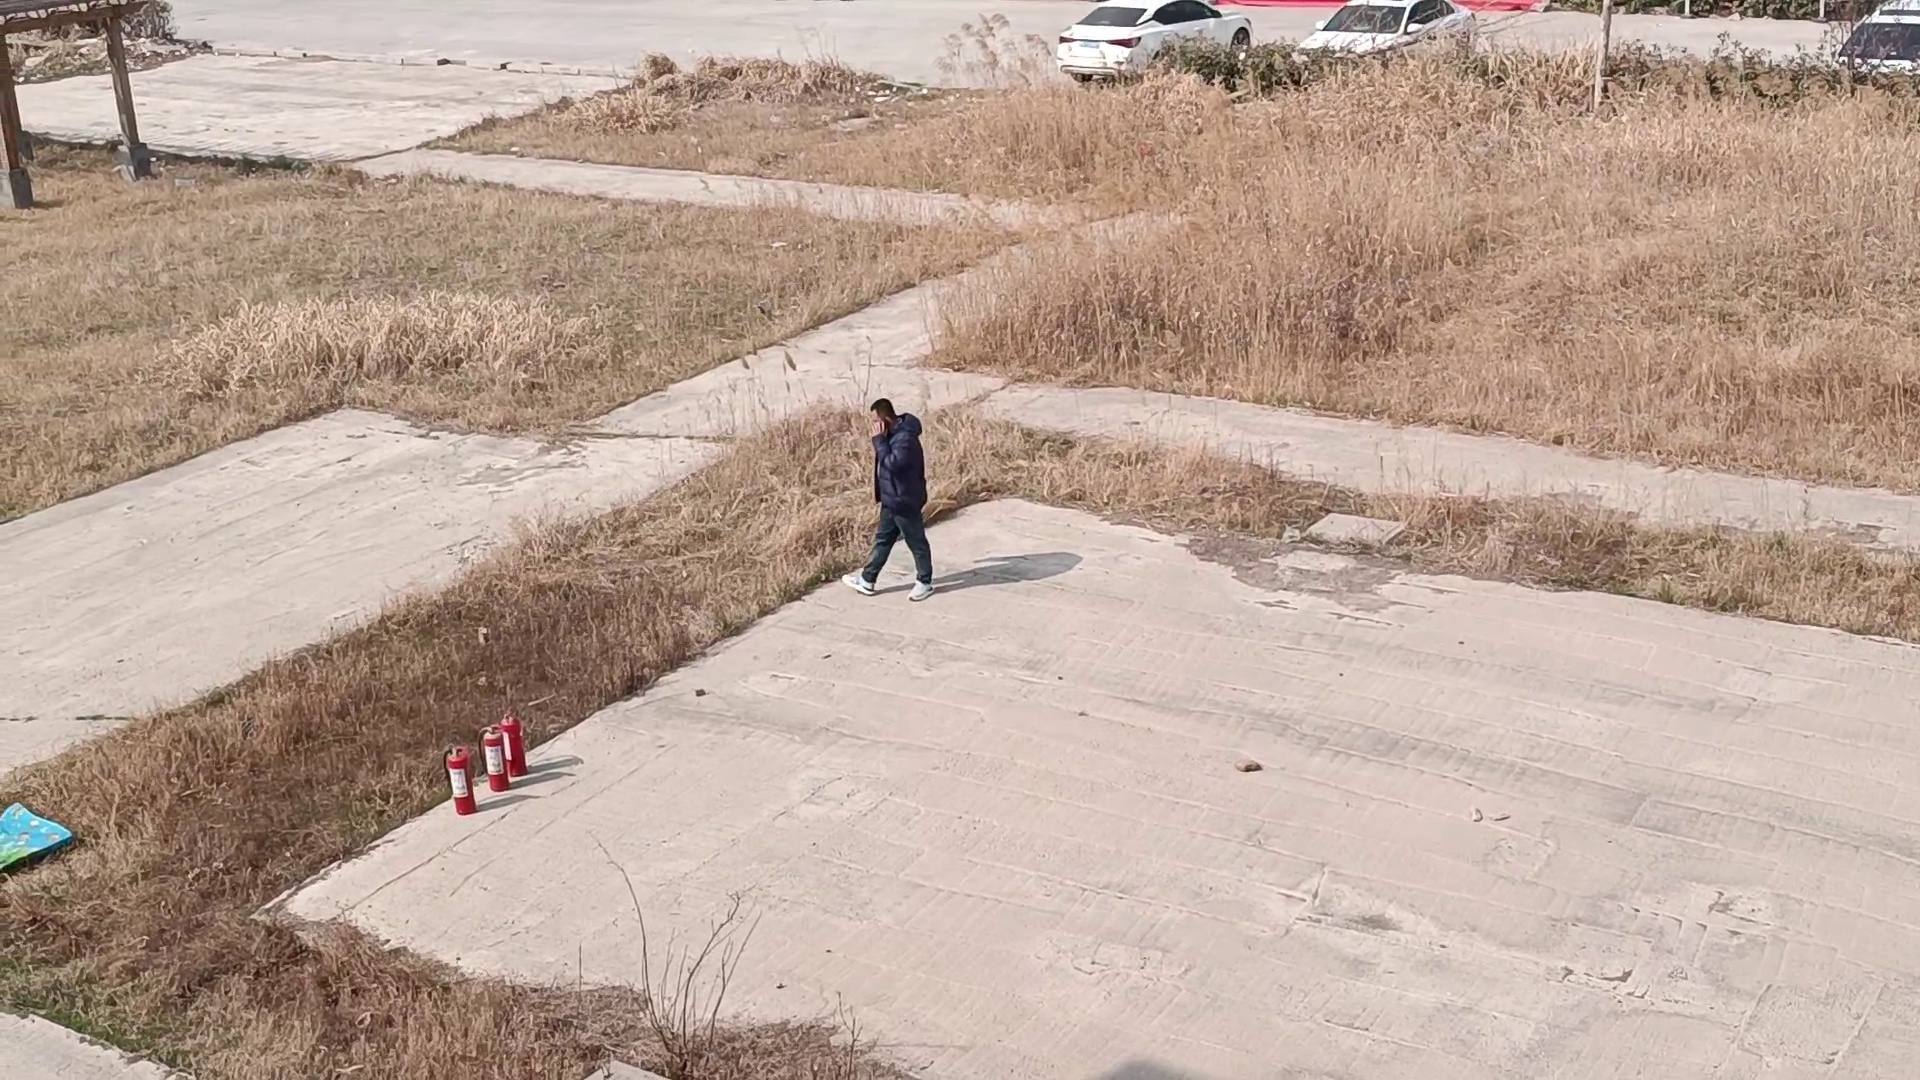phone: (862, 393, 901, 442)
